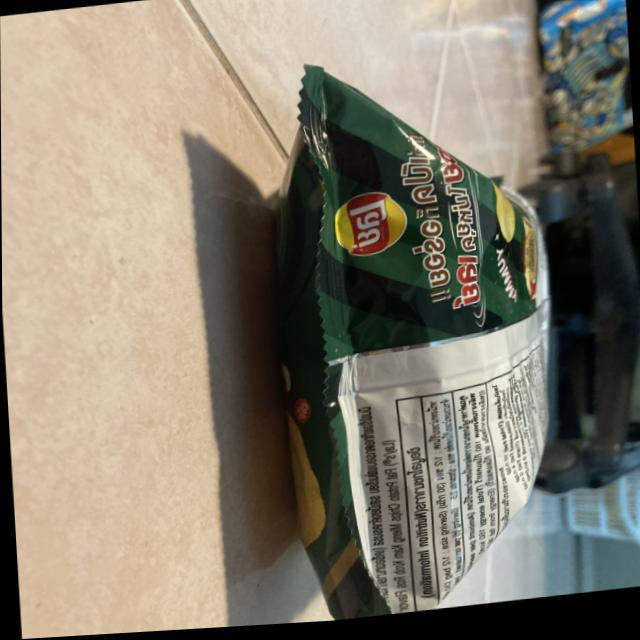Laygreen: (240, 31, 599, 629)
